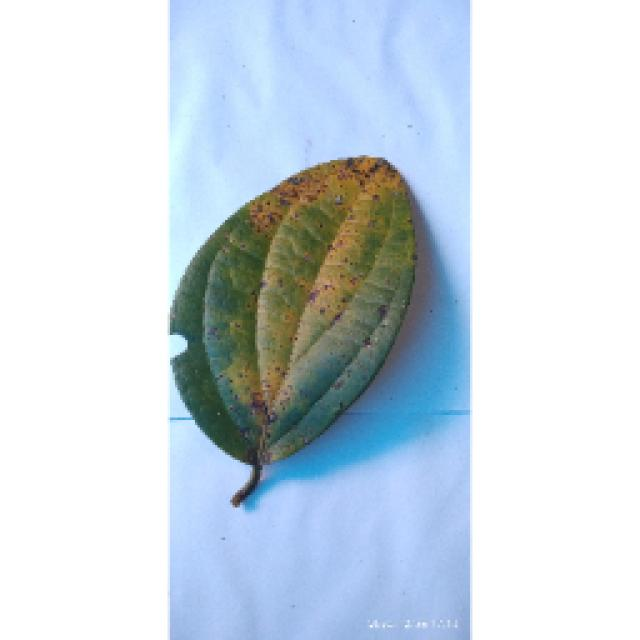slow-decline: (162, 150, 422, 505)
